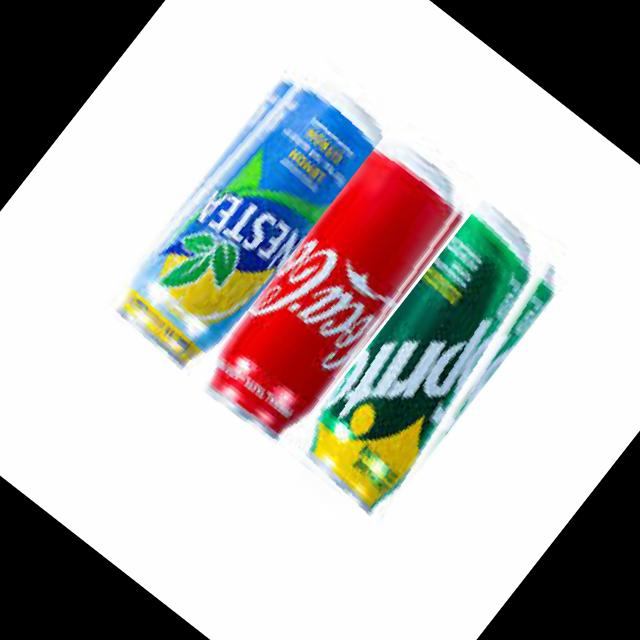Cans: (278, 197, 584, 537), (186, 119, 488, 456), (90, 49, 391, 387)
